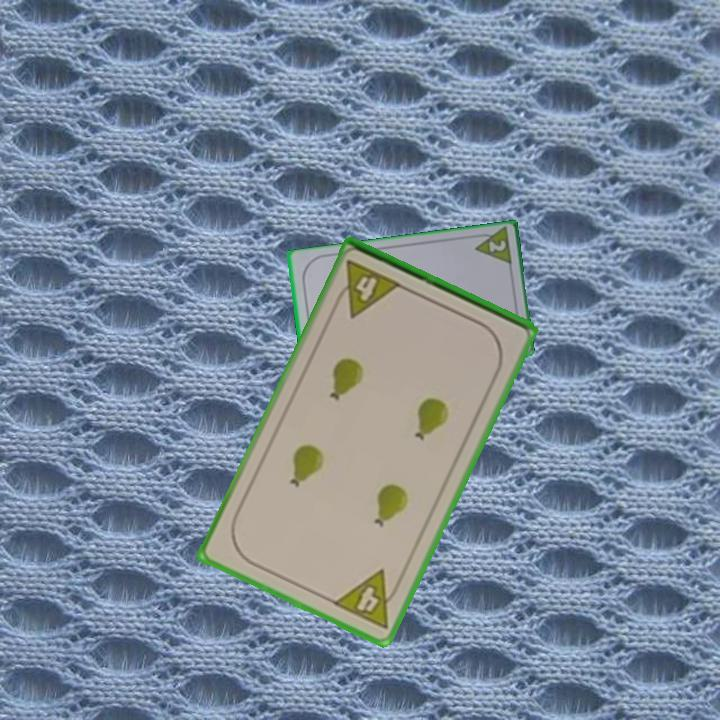2p: (485, 237, 509, 256)
4p: (329, 566, 406, 633), (329, 256, 405, 321)
